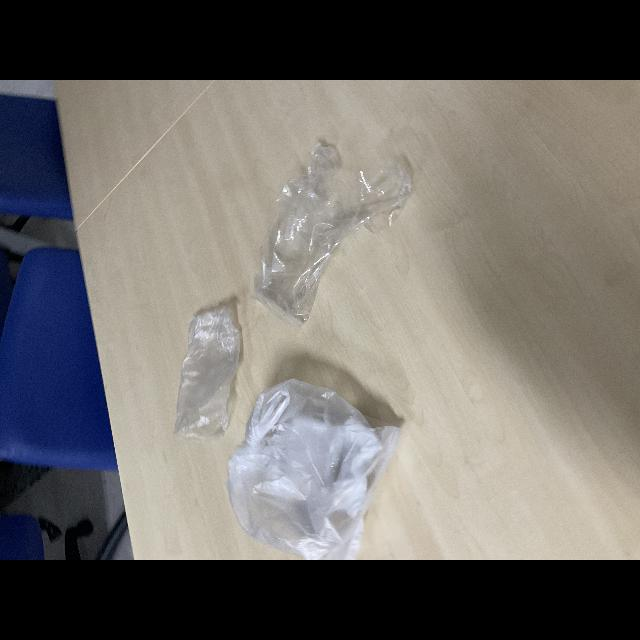plastic_bag: (224, 368, 402, 554)
scrap_plastic: (228, 130, 424, 334), (169, 304, 243, 441)
